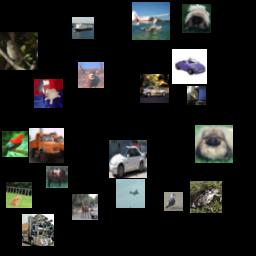airplane: (132, 2, 170, 40), (116, 179, 145, 208)
automobile: (109, 140, 147, 178), (172, 49, 207, 84), (140, 74, 169, 103)
bird: (0, 32, 38, 70), (2, 131, 28, 157), (164, 192, 183, 211)
cat: (6, 182, 32, 208), (187, 86, 206, 105)
deer: (72, 194, 98, 220), (78, 62, 104, 88)
dog: (195, 125, 233, 163), (182, 4, 211, 33), (34, 79, 63, 108)
frog: (190, 181, 222, 213)
ship: (72, 17, 94, 39)
truck: (29, 128, 64, 163), (22, 214, 54, 246)
